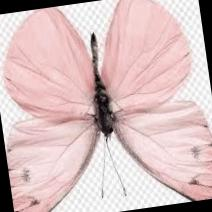butterfly: (4, 0, 212, 212)
